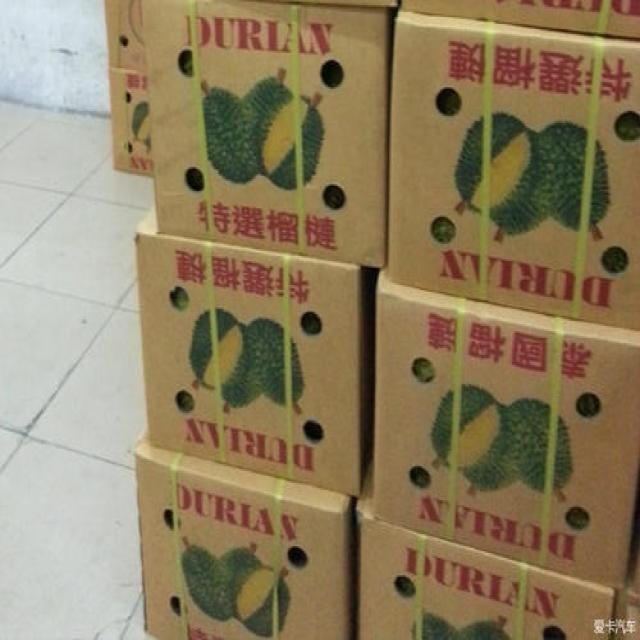box: (374, 270, 639, 590), (390, 9, 639, 331), (143, 1, 389, 268), (134, 208, 361, 497), (356, 457, 615, 638), (137, 432, 353, 638), (400, 1, 639, 39), (109, 67, 153, 178), (104, 1, 149, 74)
